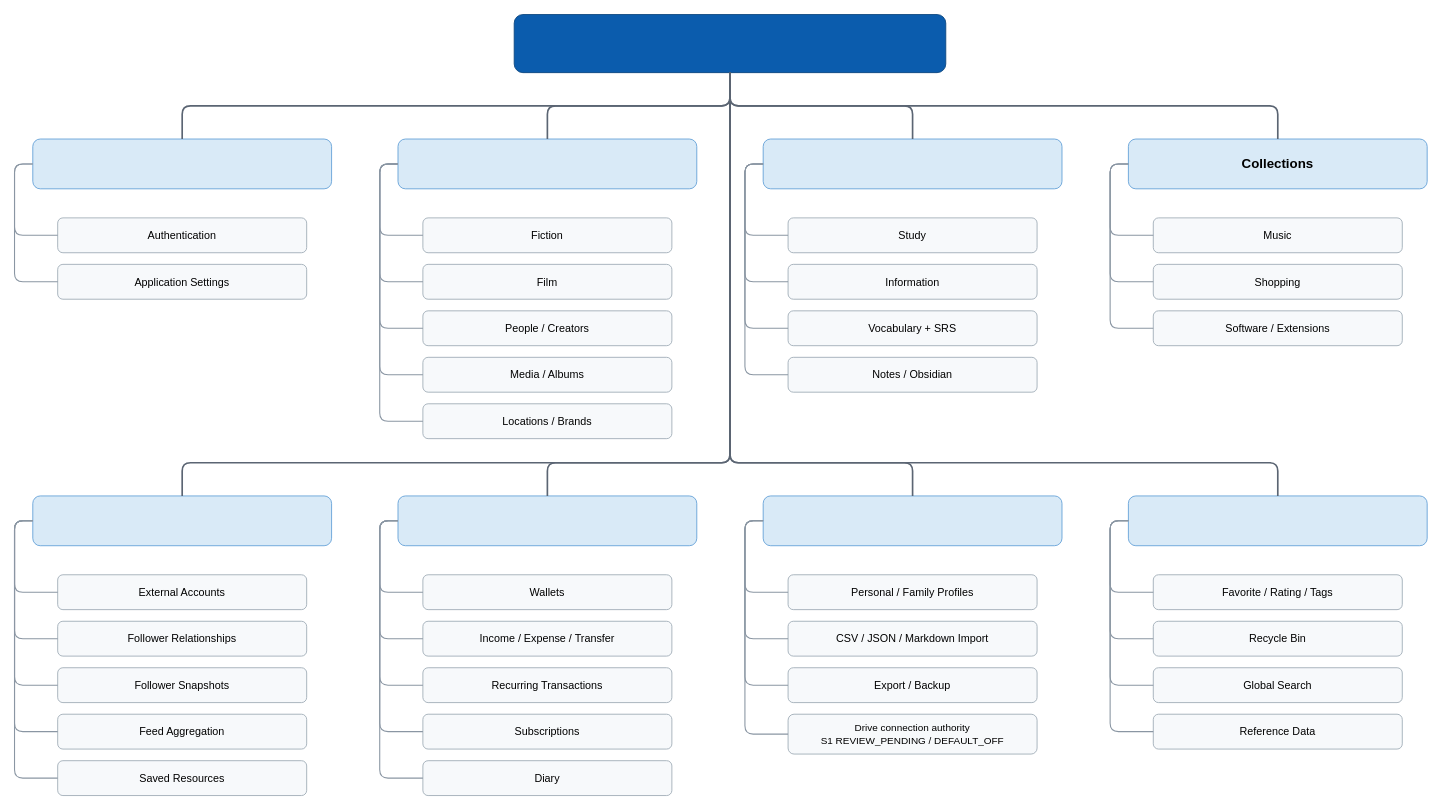
The diagram is 1443 pixels wide and 810 high, and some of its shapes have lost their labels. Each missing label, with the centre of its shape:
"Access & Settings" goes at [182,163].
"Accounts & Feeds" goes at [182,520].
"Content Library" goes at [547,163].
"Cross-cutting Vault" goes at [1277,520].
"Finance & Journal" goes at [547,520].
"Knowledge" goes at [912,163].
"Personal & Data Ops" goes at [912,520].
"Personal Private Vault" goes at [729,43].
